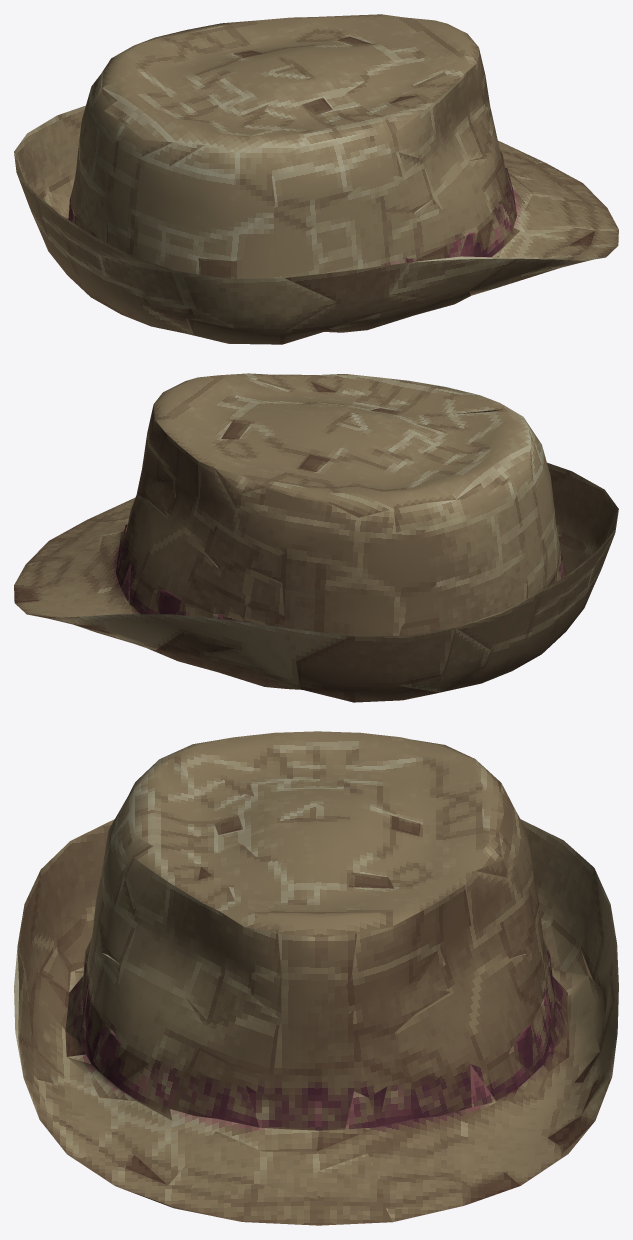
File: wear_fedora3.glb
The picture shows the model from 3 angles, top to bottom: view 1: azimuth 30°, elevation 25°; view 2: azimuth 150°, elevation 25°; view 3: azimuth 270°, elevation 25°; orthographic projection. The views are drawn at different scales.
Visible parts, largest first — view 1: mesh; view 2: mesh; view 3: mesh.
Part boxes in pixels (bbox=[...]): mesh: bbox=[14, 14, 618, 344]; mesh: bbox=[14, 373, 618, 702]; mesh: bbox=[14, 731, 618, 1225].
Size of the model in its own units: 0.3776 by 0.13 by 0.3055.
1 material, 1 textured.
